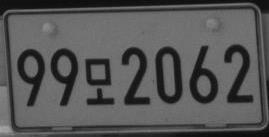0: (155, 45, 183, 105)
2: (223, 42, 254, 103), (120, 45, 150, 105)
6: (188, 45, 219, 104)
9: (16, 47, 45, 107), (49, 47, 78, 106)
모: (84, 57, 114, 105)
